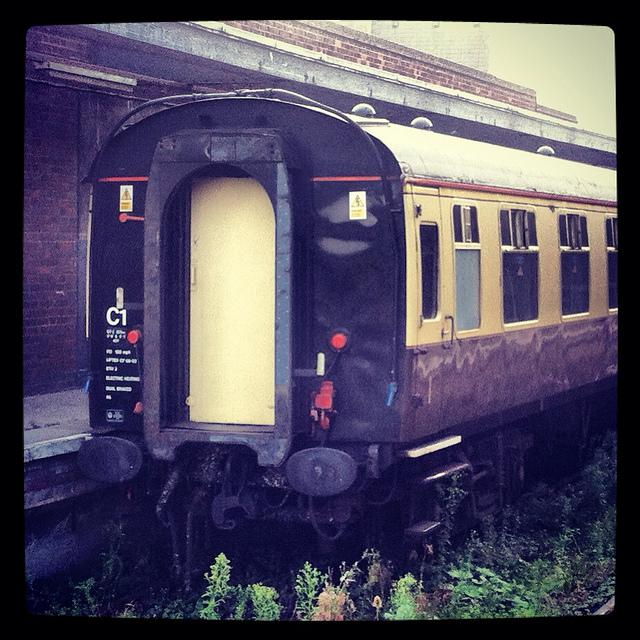Train: (87, 89, 620, 527)
